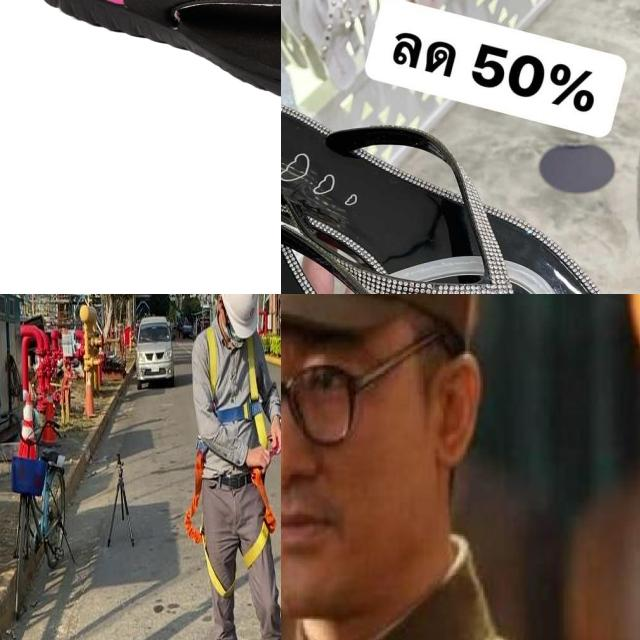Harness: (184, 441, 234, 598), (206, 327, 267, 446), (244, 469, 277, 570)
No_Ear-Protection: (433, 336, 488, 476)
Sandals: (281, 80, 640, 294), (27, 0, 281, 111)
face_nomask: (281, 326, 431, 622)
glasses: (281, 359, 363, 459)
person: (281, 294, 640, 640)
